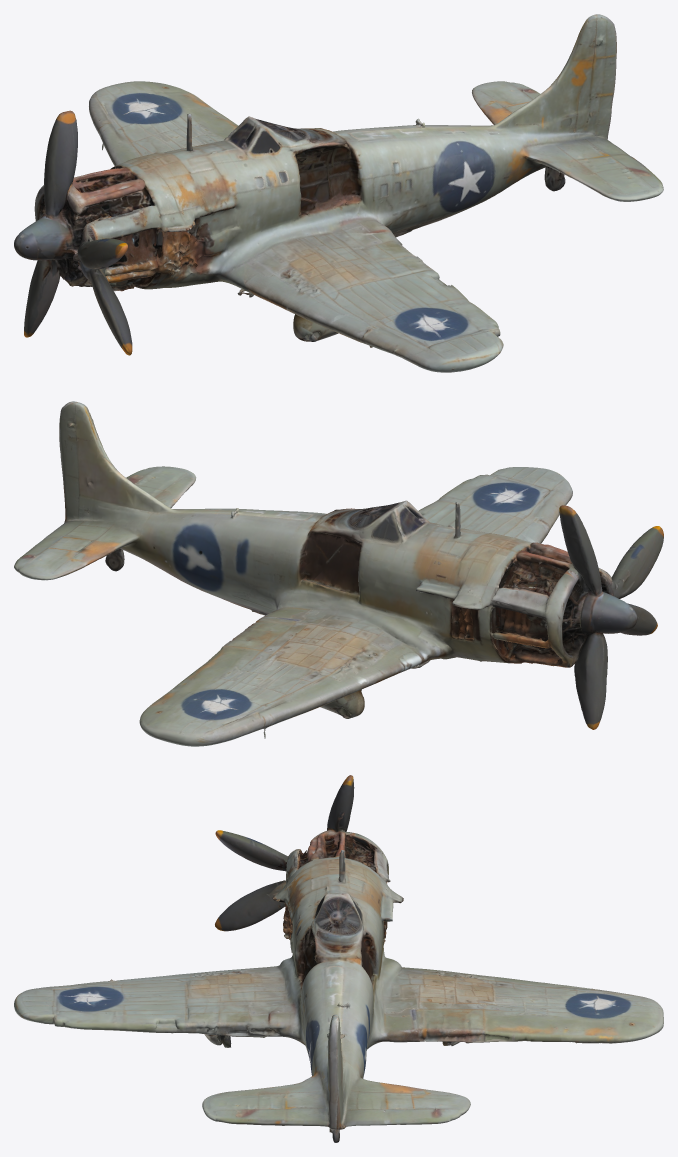
The model's file is World War 3 v3.glb.
The picture shows the model from 3 angles, top to bottom: view 1: azimuth 30°, elevation 25°; view 2: azimuth 150°, elevation 25°; view 3: azimuth 270°, elevation 25°; orthographic projection. The views are drawn at different scales.
Size of the model in its own units: 1.84 by 0.6483 by 2.
1 material, 1 textured.
